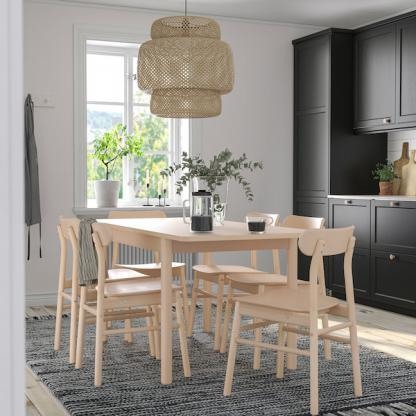chair: (222, 217, 374, 411), (218, 207, 335, 359), (87, 223, 188, 395), (38, 208, 79, 361)
light: (134, 0, 242, 122)
table: (92, 213, 310, 384)
